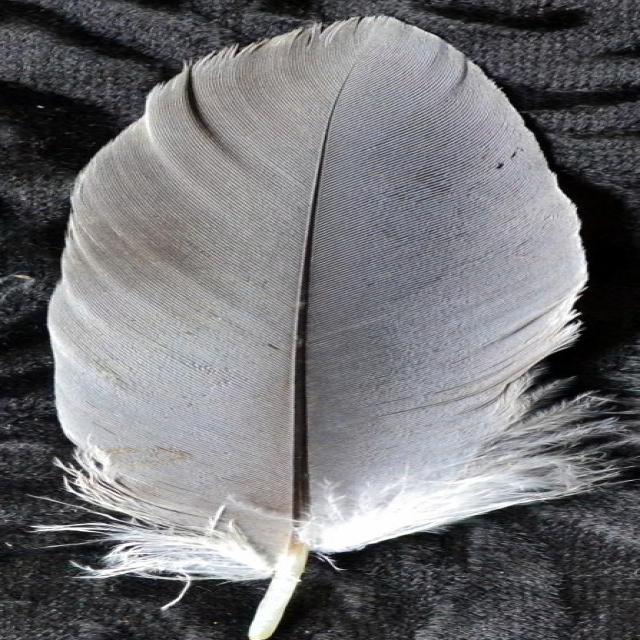feather: (43, 15, 640, 636)
